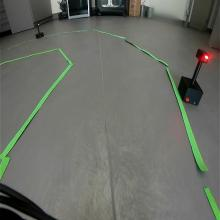red: (195, 48, 210, 64)
